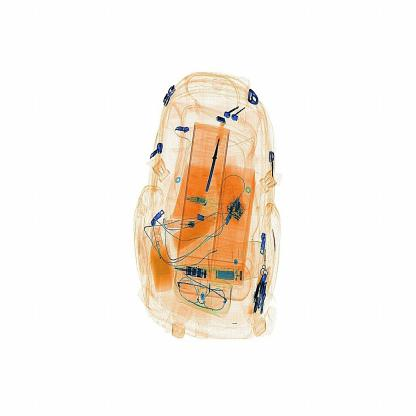gun: (201, 115, 229, 196)
